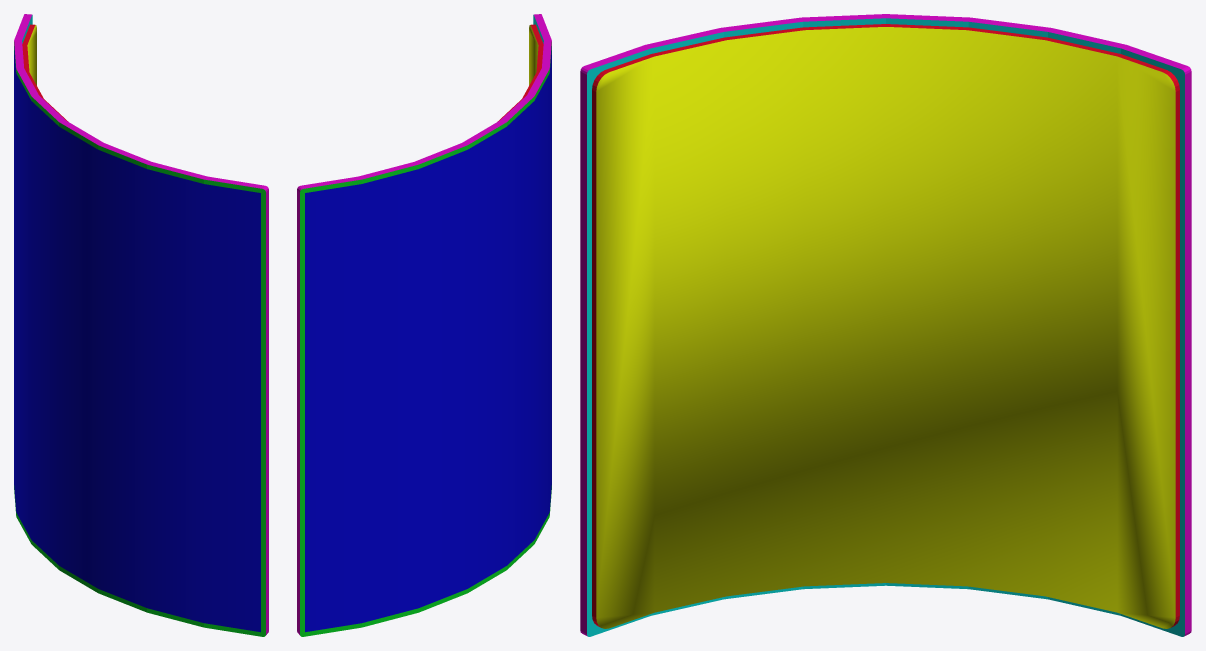
3 views of the same model, side by side, from view 1: azimuth 30°, elevation 25°; view 2: azimuth 150°, elevation 25°; view 3: azimuth 270°, elevation 25° (orthographic). The views are drawn at different scales.
Parts seen in each view (by area): view 1: Cylinder; view 2: Cylinder; view 3: Cylinder.
Part boxes in pixels (x1=…): Cylinder: x1=14, y1=14, x2=268, y2=636; Cylinder: x1=297, y1=14, x2=551, y2=636; Cylinder: x1=580, y1=14, x2=1191, y2=636.
Size of the model in its own units: 0.3991 by 1.85 by 1.81.
